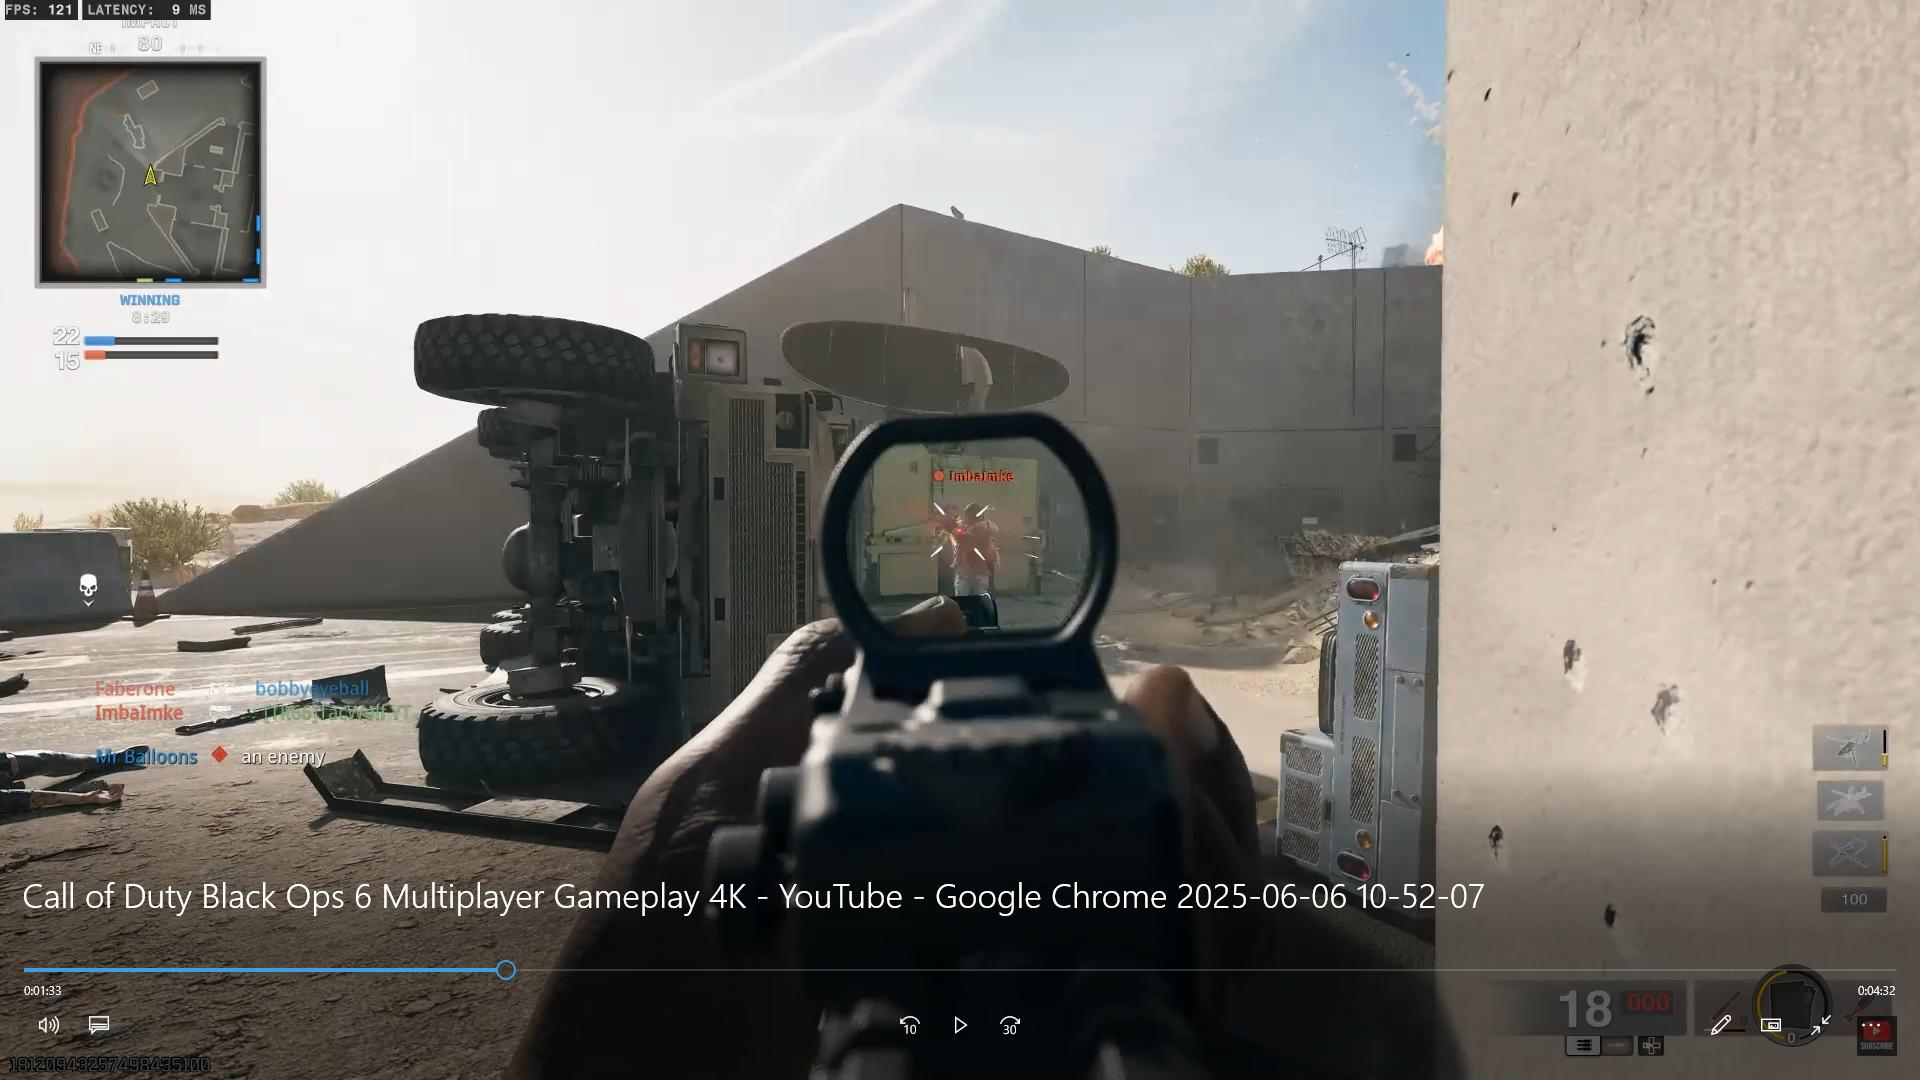Enemy: (930, 458, 1021, 597)
